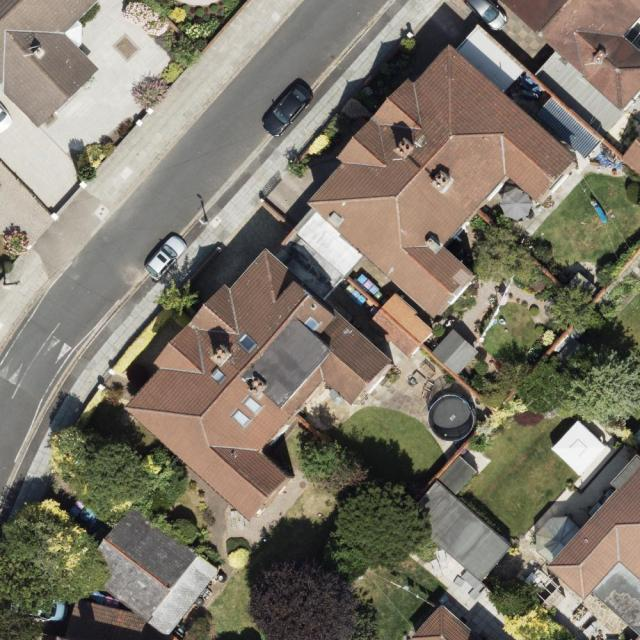roof: (119, 26, 578, 523), (63, 499, 222, 640), (536, 444, 640, 634), (499, 0, 640, 113), (0, 0, 98, 128), (408, 604, 484, 640)
skylight: (242, 394, 264, 416), (239, 333, 259, 353), (232, 408, 250, 428), (210, 368, 228, 385), (305, 317, 321, 331)
